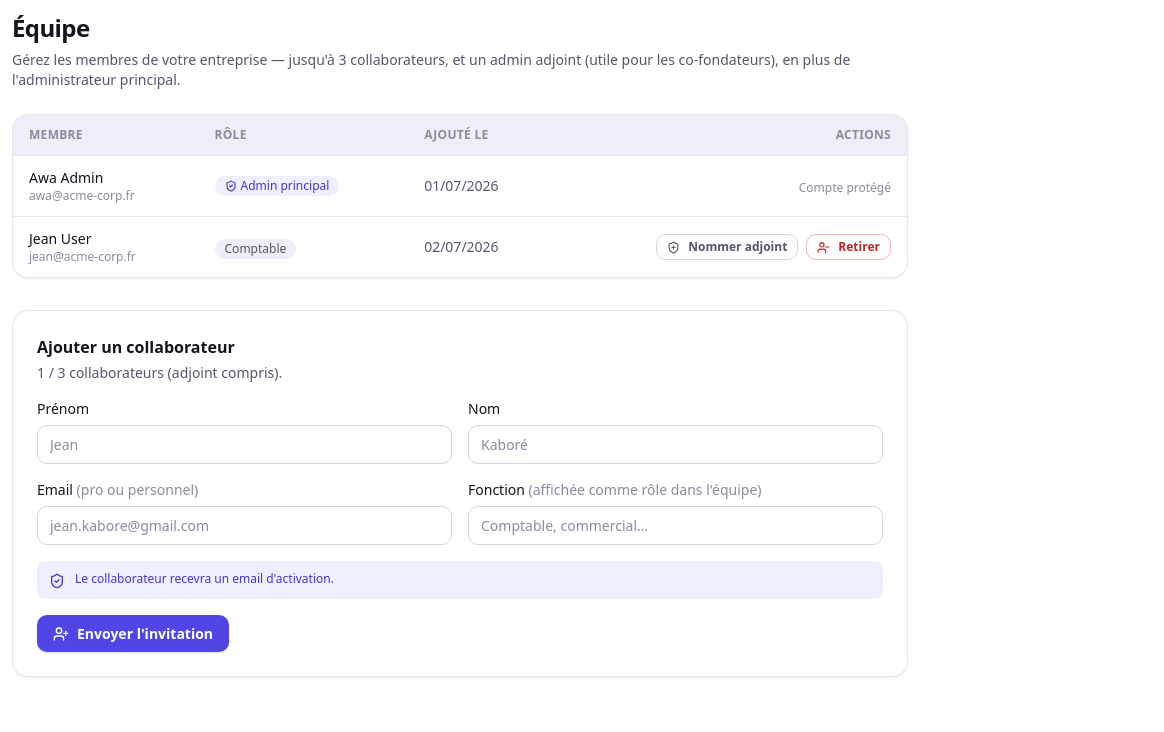
Test: TeamPage — admin adjoint & libellés de rôle › le principal nomme un user adjoint via PATCH /role
The image size is (1164, 732).
Click the button with aria-label "Nommer Jean User admin adjoint". click: point(727, 247)
box: [656, 234, 798, 260]
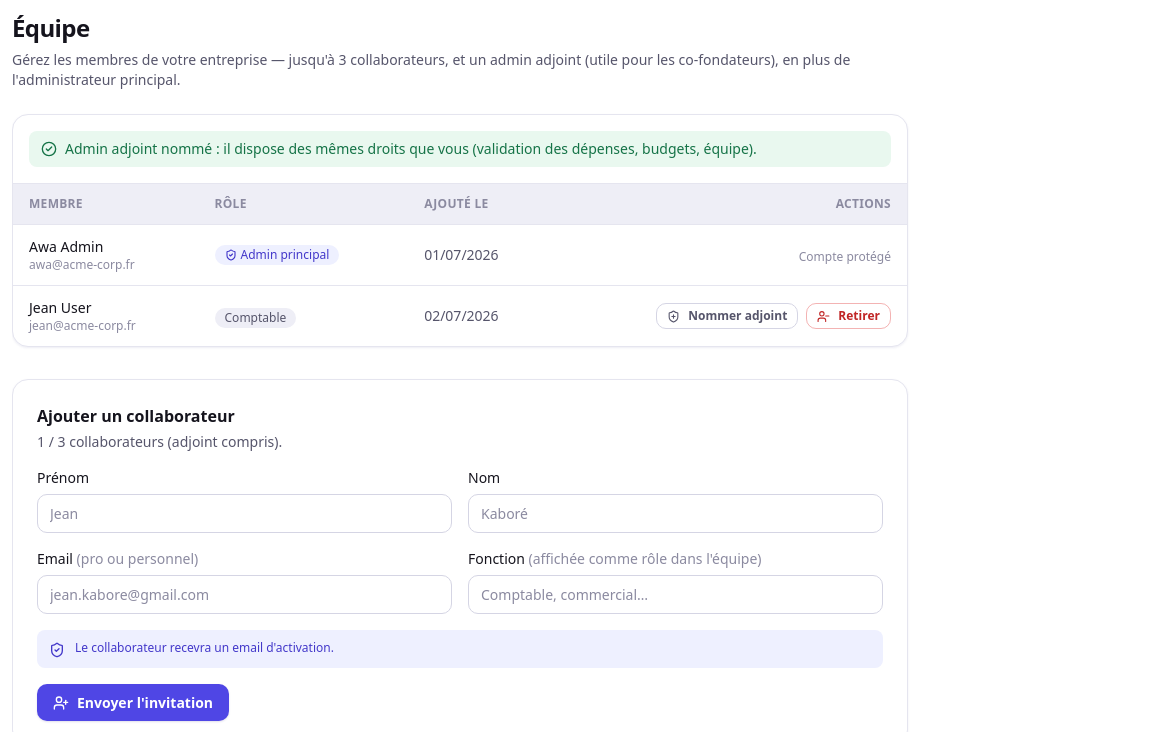
expect the text "Admin adjoint nommé" is shown: met, box [65, 139, 757, 158]
